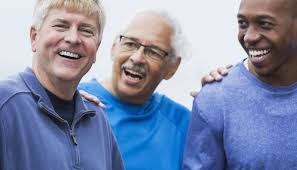Glasses: (118, 33, 167, 63)
No-Glasses: (45, 18, 105, 41), (230, 16, 285, 30)
